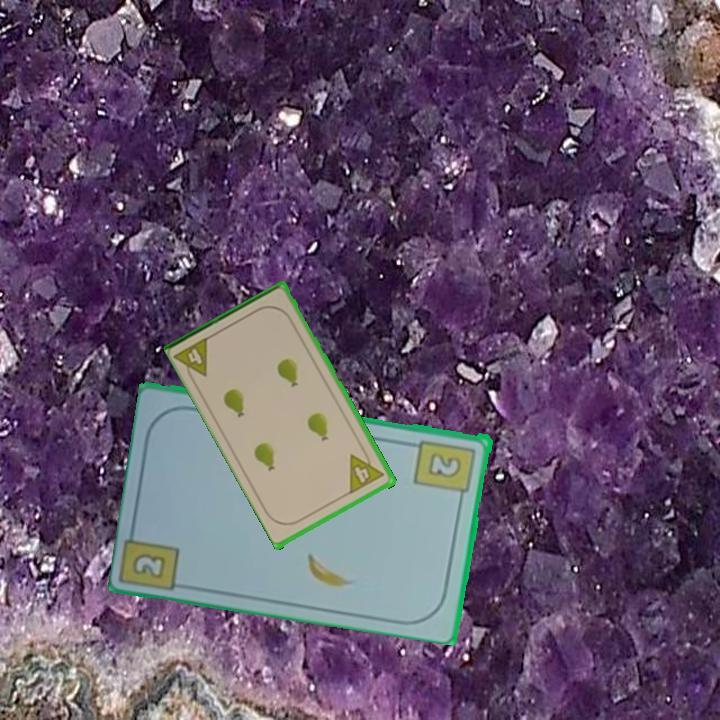2b: (412, 435, 479, 504), (129, 549, 169, 581)
4p: (172, 333, 213, 386), (346, 445, 388, 496)
